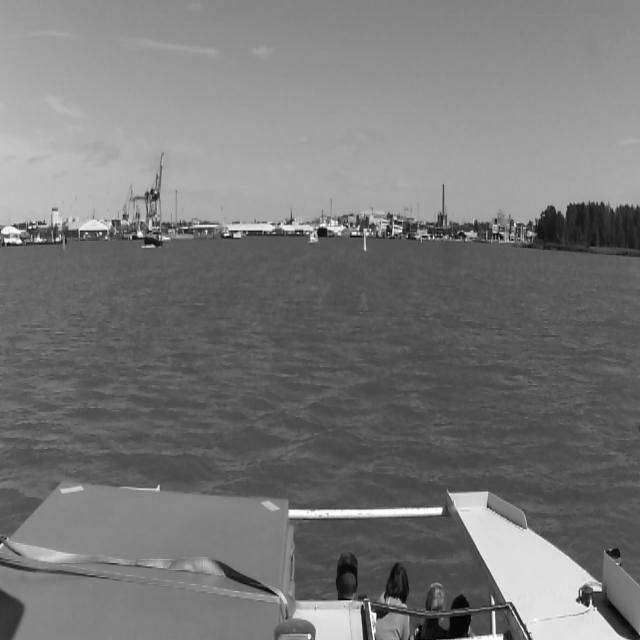buoy: (363, 237, 367, 250), (62, 236, 66, 248)
ship: (144, 231, 164, 246), (317, 210, 327, 237), (310, 230, 318, 243)
